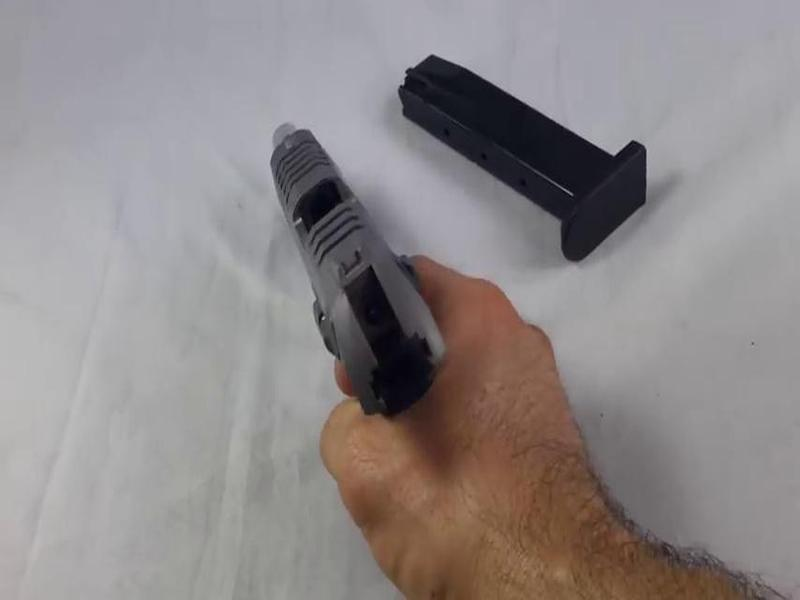Pistola: (233, 83, 483, 462)
